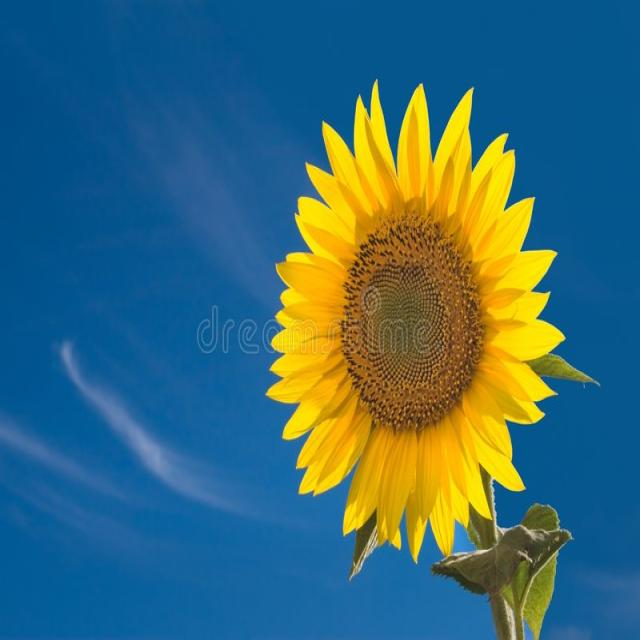sunflower: (266, 62, 570, 584)
